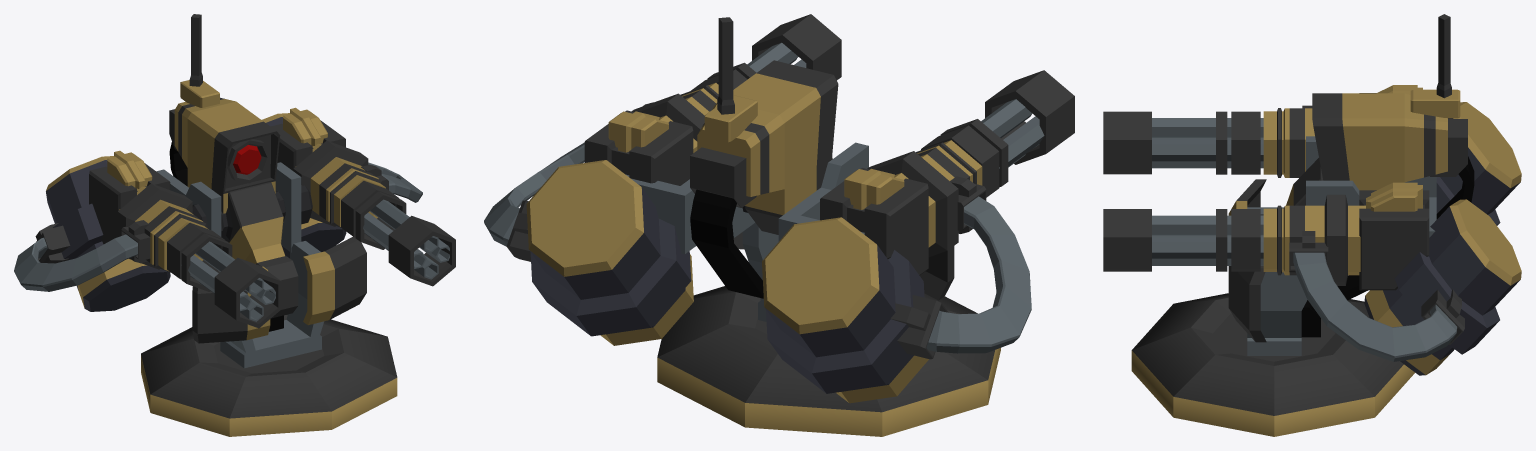
Rendered from turret_bud.glb.
3 renders of one model, left to right at view 1: azimuth 30°, elevation 25°; view 2: azimuth 150°, elevation 25°; view 3: azimuth 270°, elevation 25°, orthographic. The views are drawn at different scales.
Visible parts, largest first — view 1: Guns, Head, Base; view 2: Guns, Head, Base; view 3: Guns, Base, Head.
Part boxes in pixels (x1,y1,x2,y2): Guns: (14,107,455,328); Head: (169,14,366,368); Base: (141,314,397,436); Guns: (484,14,1074,403); Head: (690,17,954,321); Base: (657,286,1000,436); Guns: (1103,85,1521,375); Base: (1131,293,1414,436); Head: (1228,14,1474,355).
Size of the model in its own units: 110 by 83.67 by 89.32.
